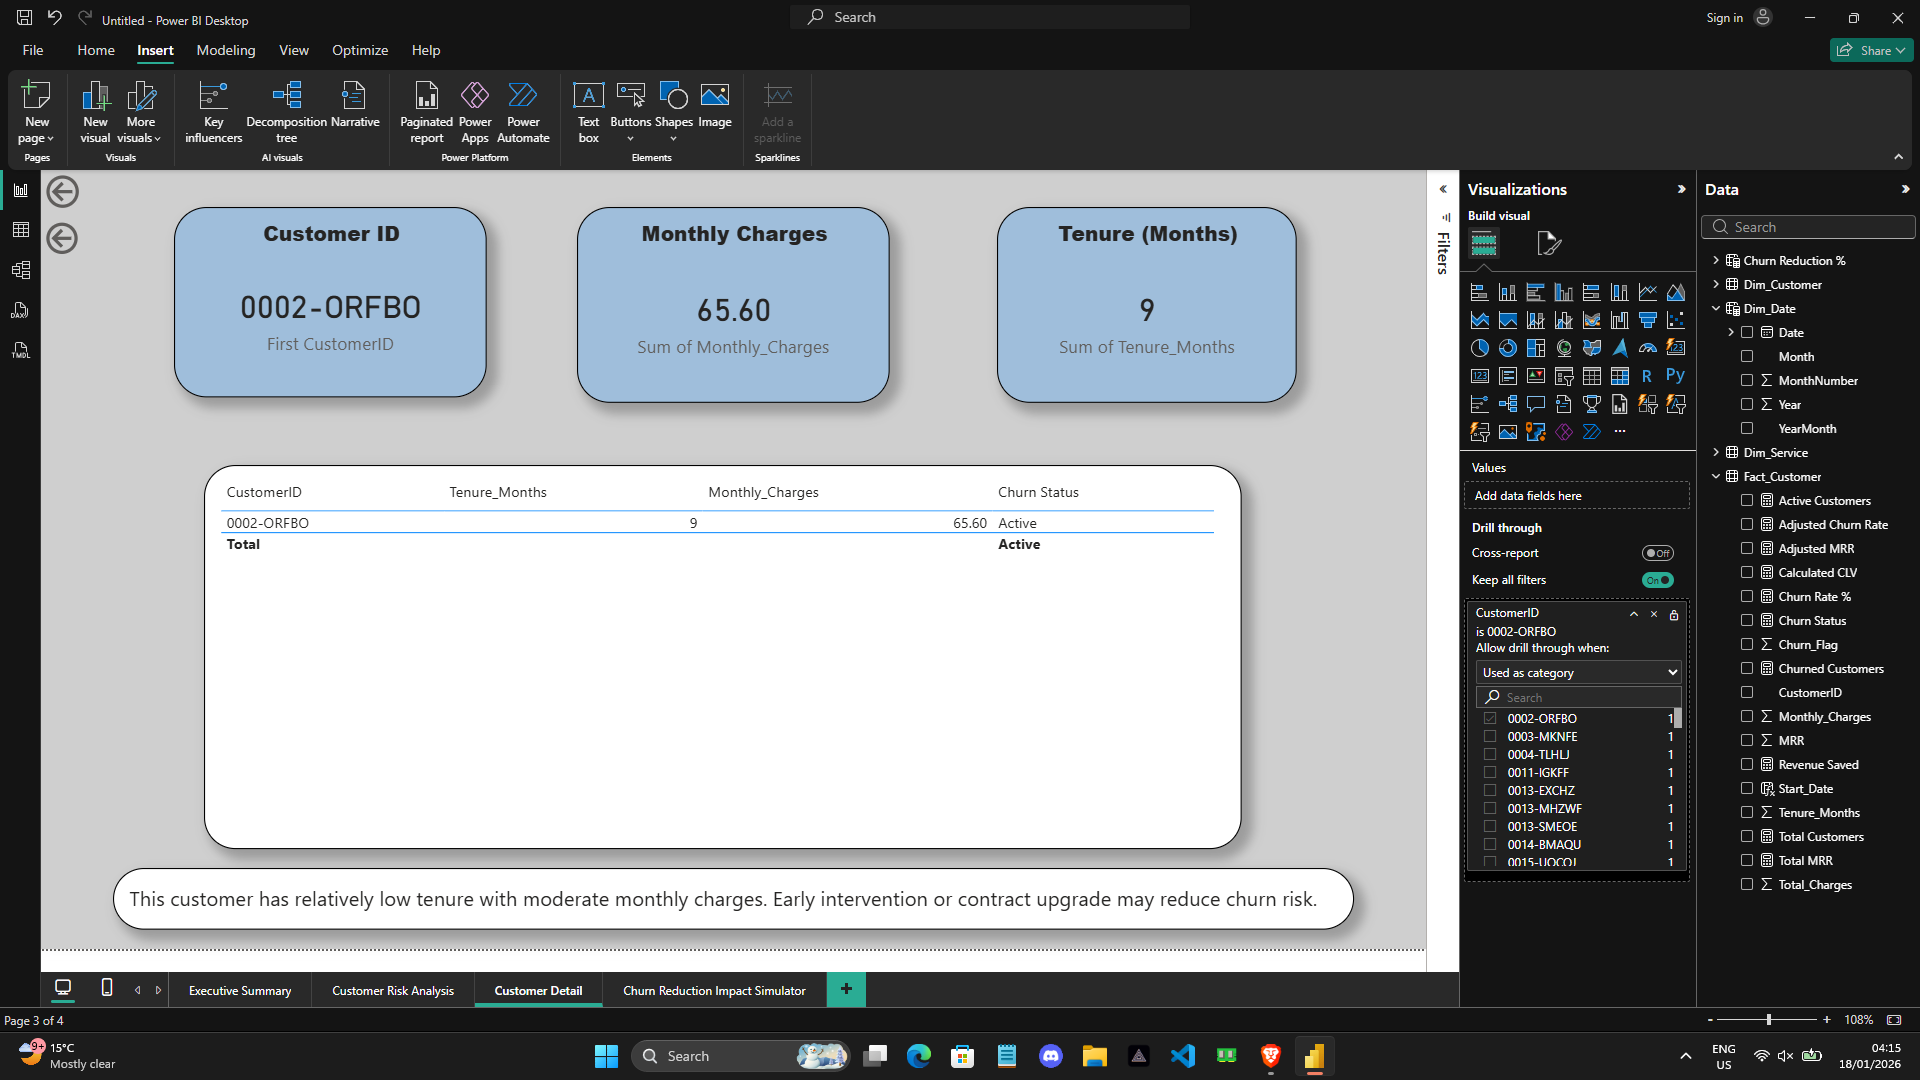

The dashboard page shown, as its layout file describes it:
{"tool":"powerbi","page":{"name":"Customer  Detail ","canvas":[1280,720],"ordinal":2},"visuals":[{"type":"actionButton","box":[0,0,100,40],"z":0},{"type":"tableEx","fields":{"Values":["Fact_Customer.CustomerID","Fact_Customer.Tenure_Months","Fact_Customer.Monthly_Charges","Fact_Customer.Churn Status"]},"box":[150.6,272.6,959.3,354.9],"z":1},{"type":"actionButton","box":[0,39.7,38.8,46.2],"z":2},{"type":"card","title":"Customer ID","fields":{"Values":["Min(Fact_Customer.CustomerID)"]},"box":[122.9,34.2,289.3,175.6],"z":3},{"type":"card","title":"Monthly Charges","fields":{"Values":["Sum(Fact_Customer.Monthly_Charges)"]},"box":[495.4,34.2,289.3,181.1],"z":4},{"type":"card","title":"Tenure (Months)","fields":{"Values":["Sum(Fact_Customer.Tenure_Months)"]},"box":[883.5,34.2,277.3,181.1],"z":5},{"type":"textbox","box":[66.5,645.1,1146.9,57.3],"z":6}]}

Visuals, with their boxes on the page's 1280x720 design canvas (x1, y1, x2, y2). These are canvas units, not pixel positions in the 1920x1080 screenshot, which may show the page scaled, cropped or inside an application window:
actionButton: <region>0, 0, 100, 40</region>
tableEx - Fact_Customer.CustomerID x Fact_Customer.Tenure_Months: <region>151, 273, 1110, 628</region>
actionButton: <region>0, 40, 39, 86</region>
"Customer ID" card: <region>123, 34, 412, 210</region>
"Monthly Charges" card: <region>495, 34, 785, 215</region>
"Tenure (Months)" card: <region>884, 34, 1161, 215</region>
textbox: <region>66, 645, 1213, 702</region>
